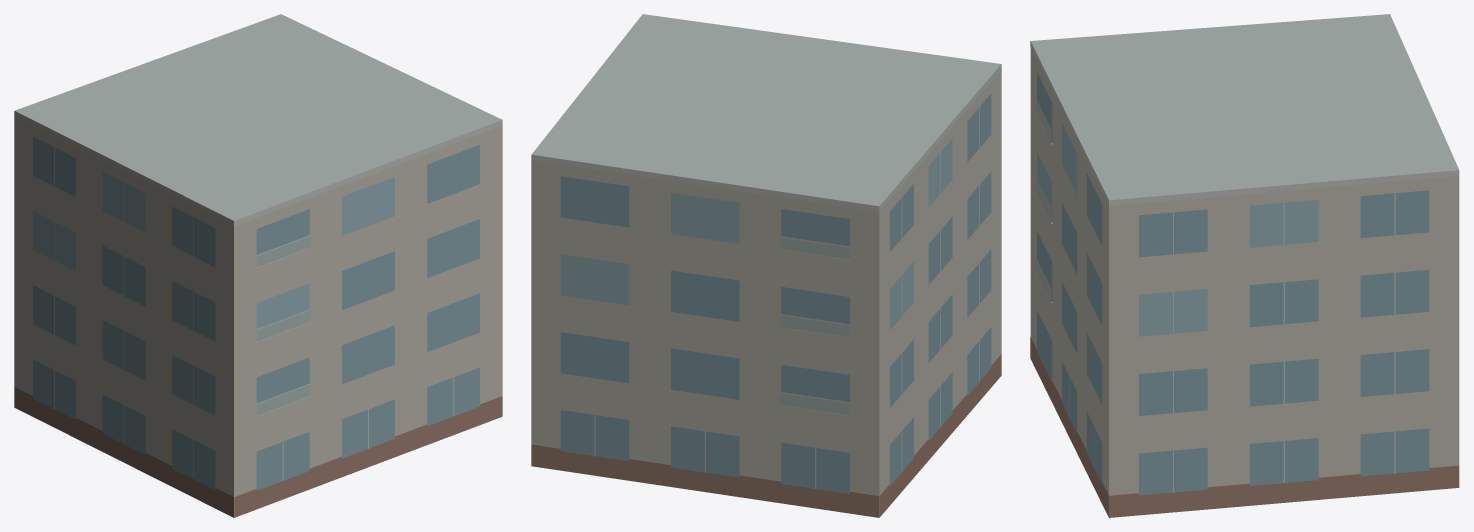
File: survey-upis-32755172.glb
The picture shows the model from 3 angles, left to right: view 1: azimuth 30°, elevation 25°; view 2: azimuth 150°, elevation 25°; view 3: azimuth 270°, elevation 25°; orthographic projection. The views are drawn at different scales.
Parts seen in each view (by area): view 1: survey-upis-32755172.tmp; view 2: survey-upis-32755172.tmp; view 3: survey-upis-32755172.tmp.
Part boxes in pixels (<box>): survey-upis-32755172.tmp: <box>14,14,502,517</box>; survey-upis-32755172.tmp: <box>531,14,1001,517</box>; survey-upis-32755172.tmp: <box>1030,14,1459,517</box>.
Size of the model in its own units: 16.93 by 13.45 by 16.47.
